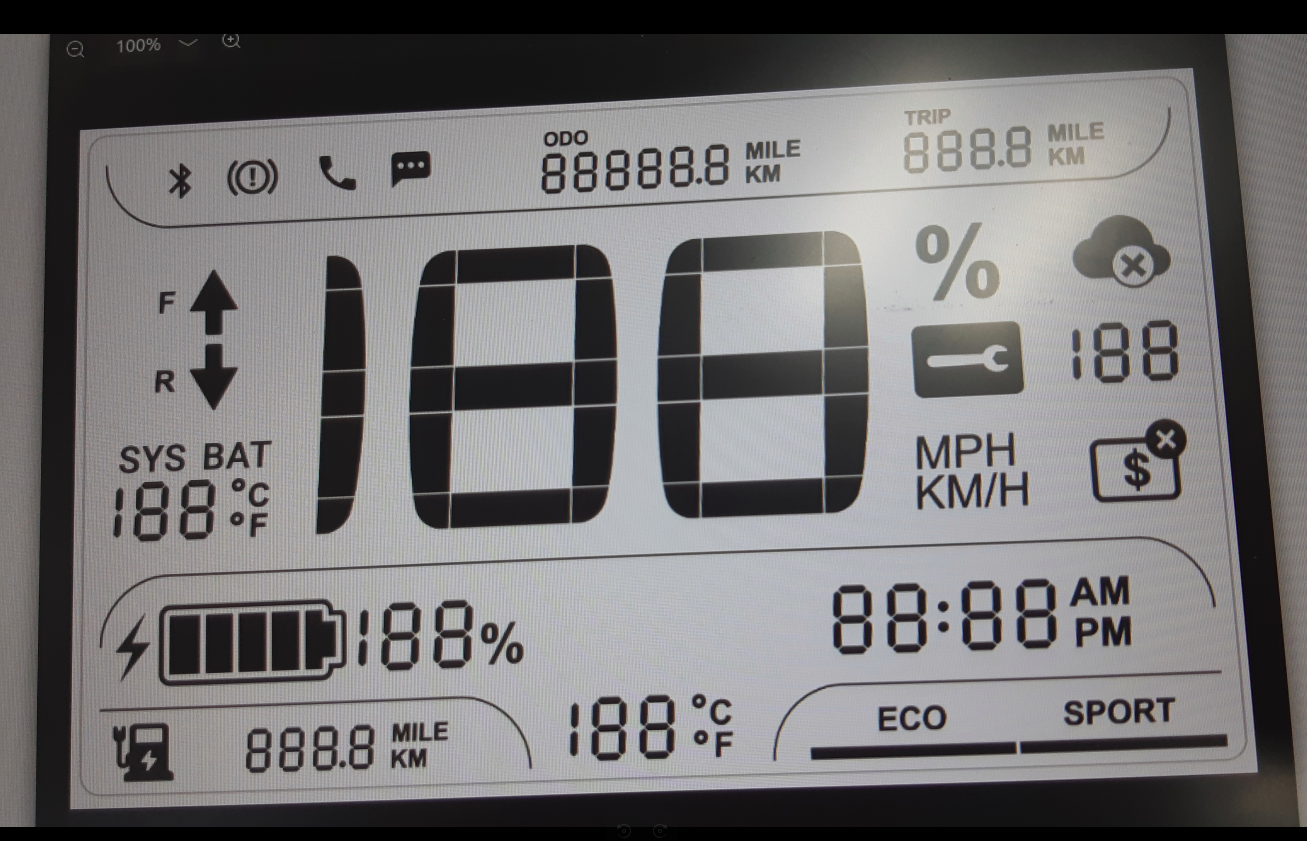bluetooth_on: (162, 160, 200, 204)
braking_on: (221, 155, 282, 200)
calling_on: (311, 151, 362, 196)
connection_lost: (1067, 211, 1177, 291)
error_code: (906, 318, 1029, 403)
low_battery: (108, 717, 183, 787)
sms_on: (384, 147, 439, 192)
vin_id: (1085, 414, 1191, 507)
